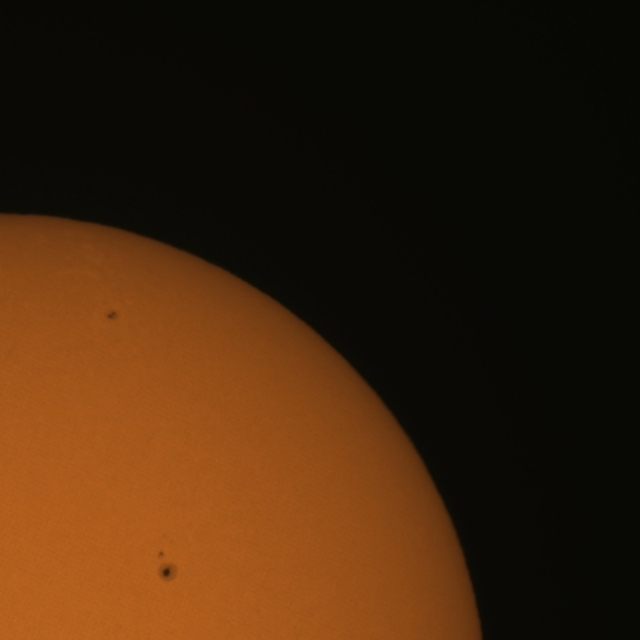sunspot: (157, 548, 177, 582), (156, 550, 168, 569), (104, 309, 119, 322), (156, 550, 166, 560)
